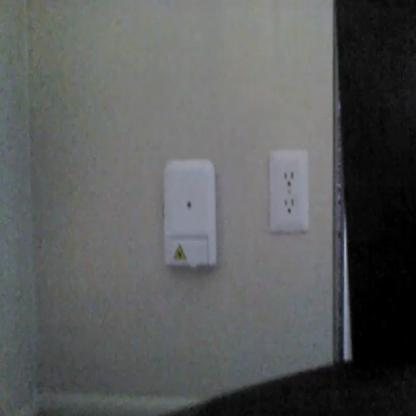OUTLET: (266, 149, 310, 230)
